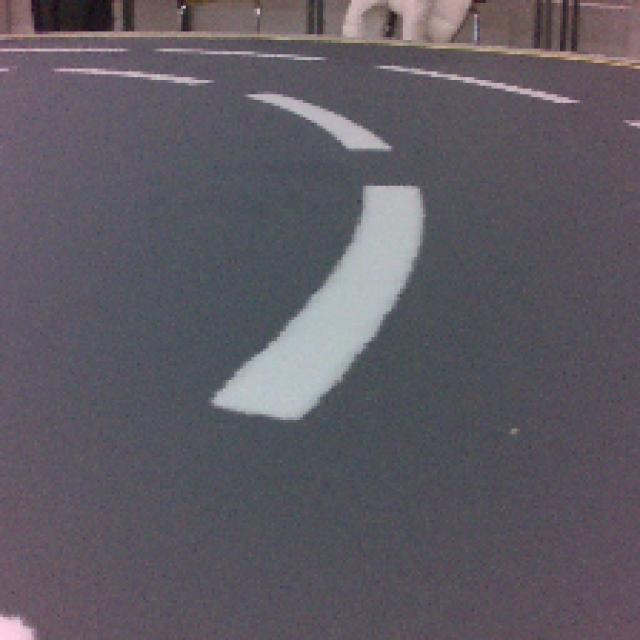Guard rail: (219, 185, 414, 421)
